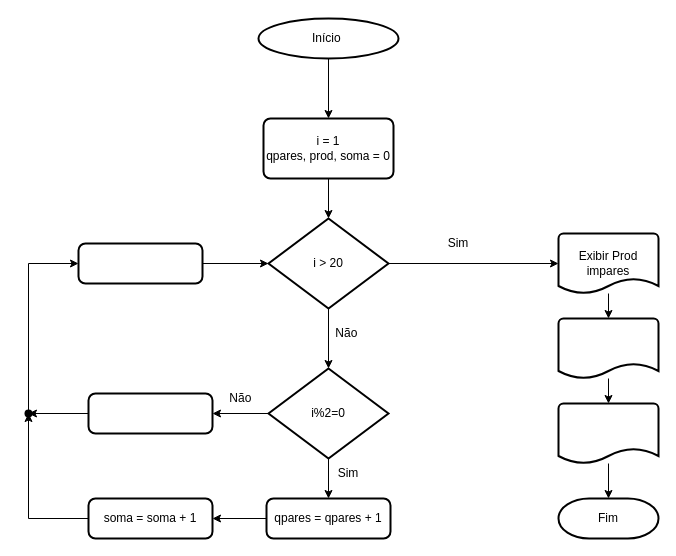
This 676x556 diagram has some shape labels left out. The shapes that lost their labels are listed below. From the top down, each one's centre as x and y in pixels, then its label:
the point at 140,263: i = i + 1
the point at 608,348: Exibir qpares
the point at 150,413: prod = prod x i
the point at 608,433: Exibir soma
